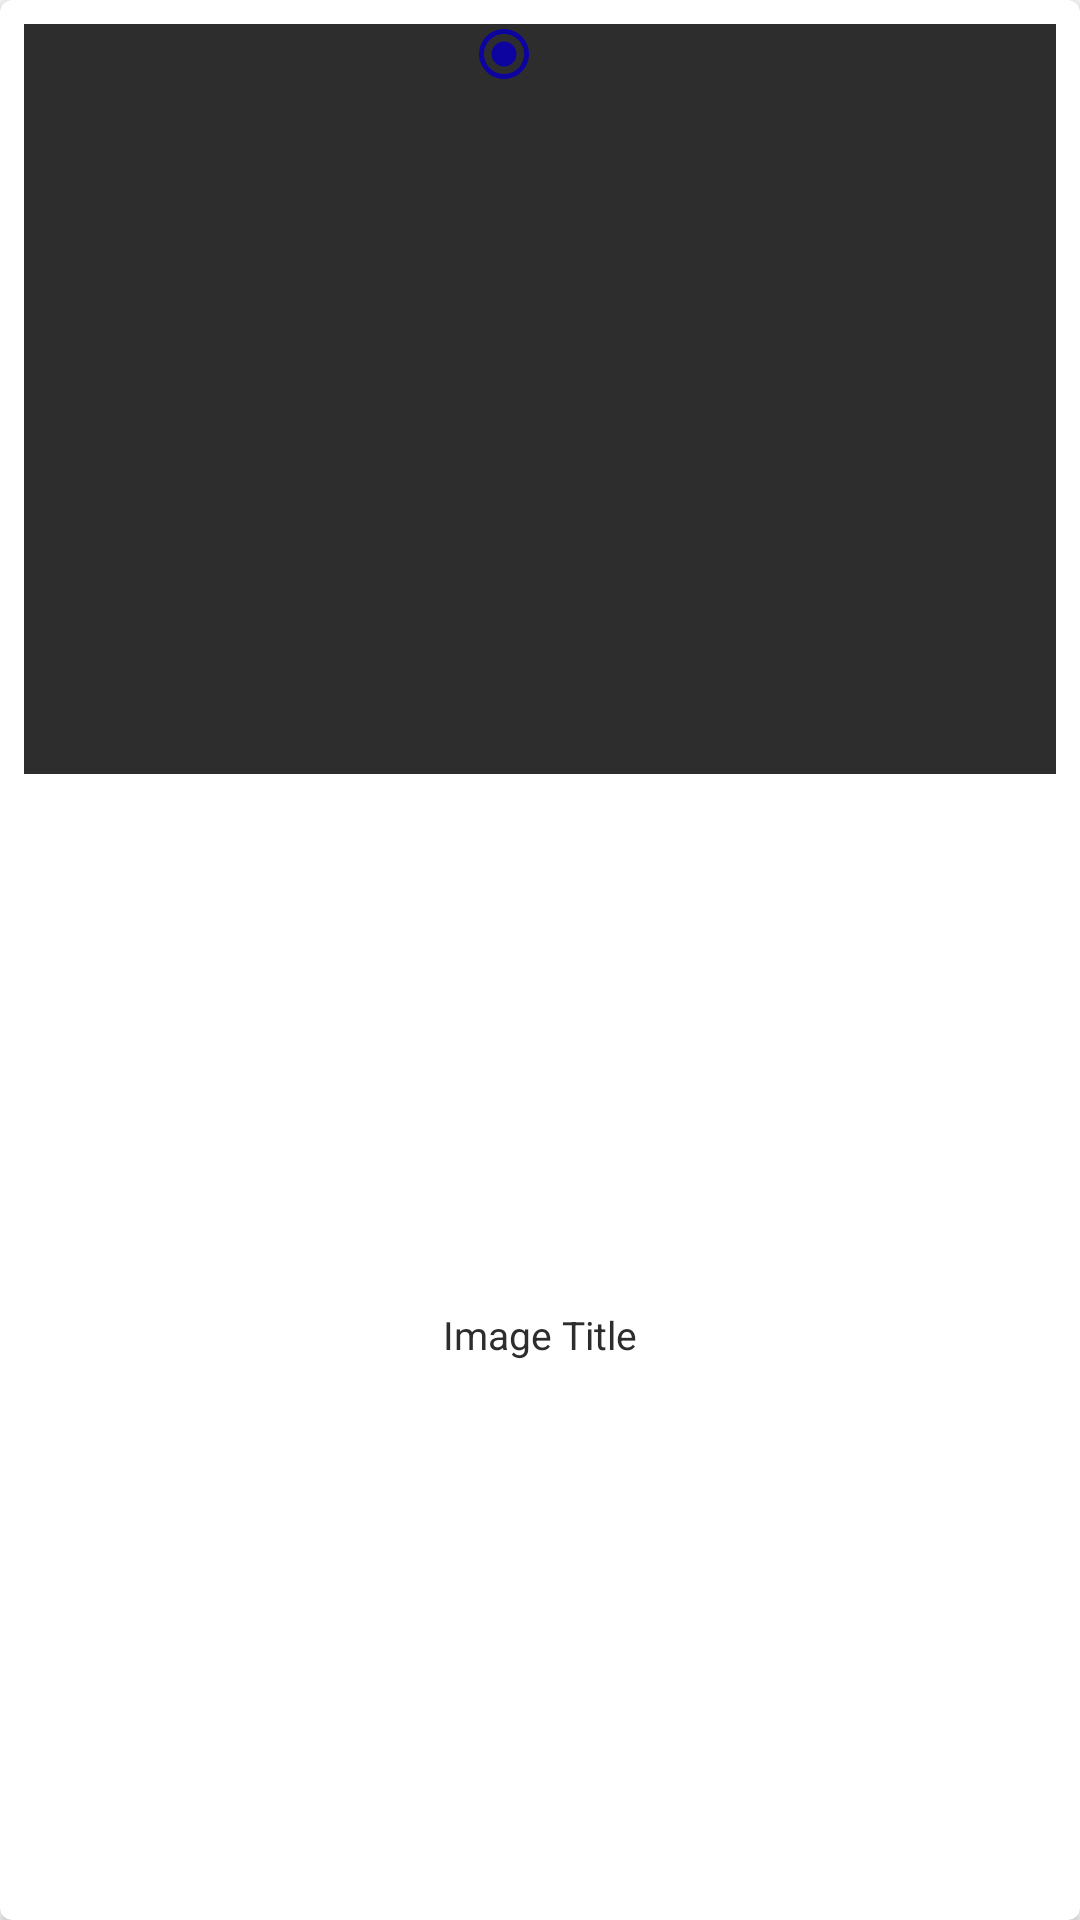

Icons on this 1080 x 1920 Android screen, each with its box as (x1, y1, x2, y2):
checked: (479, 29, 529, 79)
